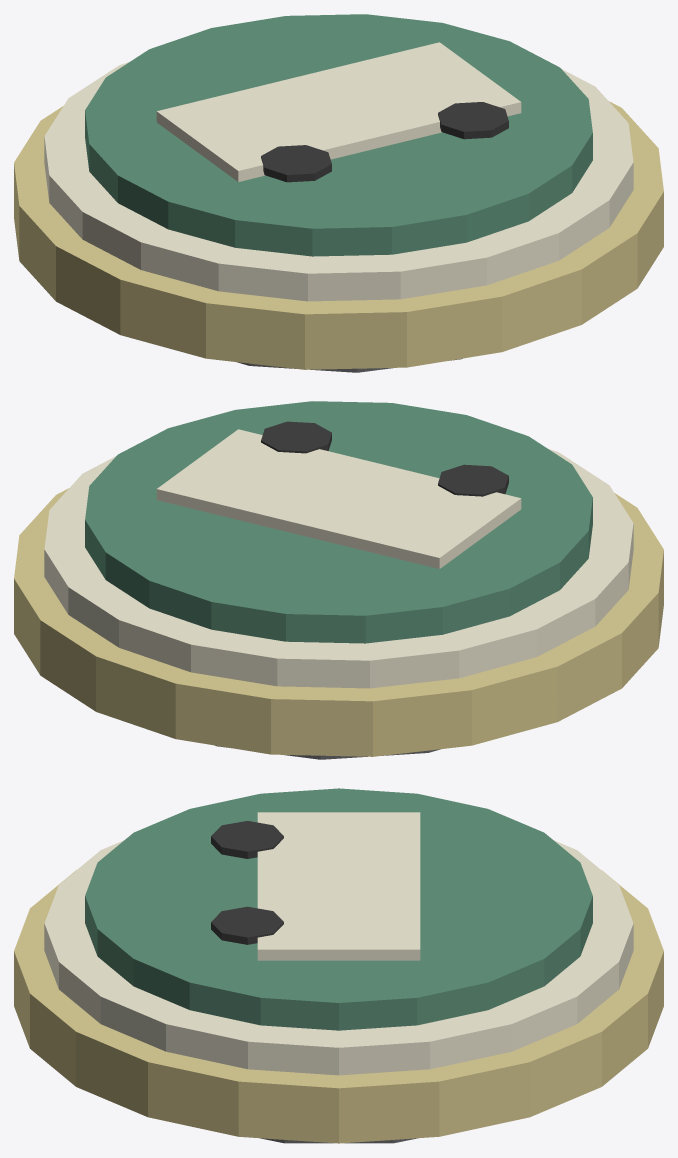
File: drone_badge_voss.glb
The picture shows the model from 3 angles, top to bottom: view 1: azimuth 30°, elevation 25°; view 2: azimuth 150°, elevation 25°; view 3: azimuth 270°, elevation 25°; orthographic projection.
Parts seen in each view (by area): view 1: body; view 2: body; view 3: body.
Boxes of the visible parts, box(x1,y1,x2,y2) form: body: box(14, 14, 663, 372); body: box(14, 401, 663, 759); body: box(14, 788, 663, 1143).
Bounding box in the file's own units: 0.032 × 0.0089 × 0.032.
